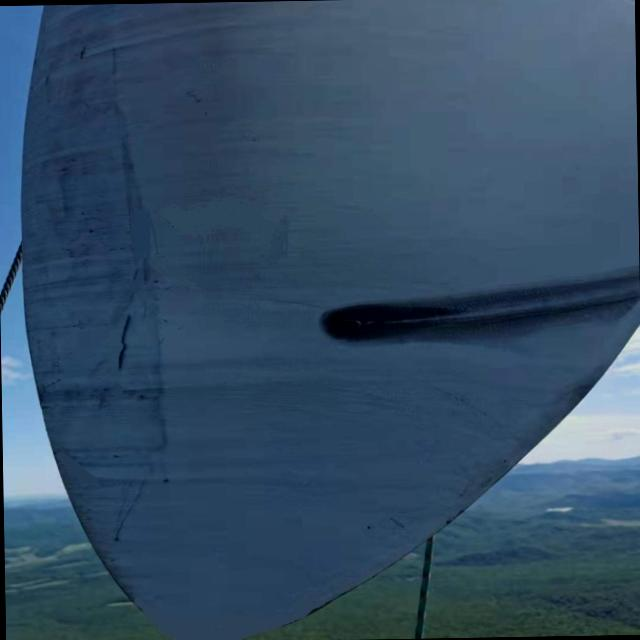crack: (316, 278, 632, 348), (114, 312, 132, 372)
